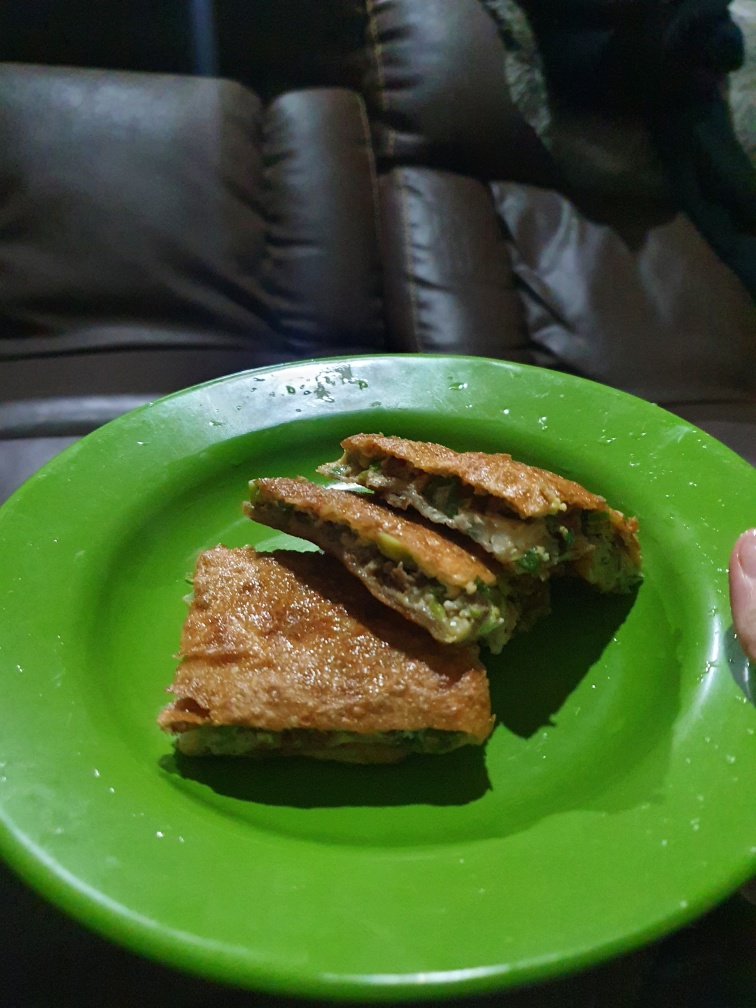martabak telor: (164, 526, 505, 759), (216, 447, 572, 660), (334, 391, 665, 588)
